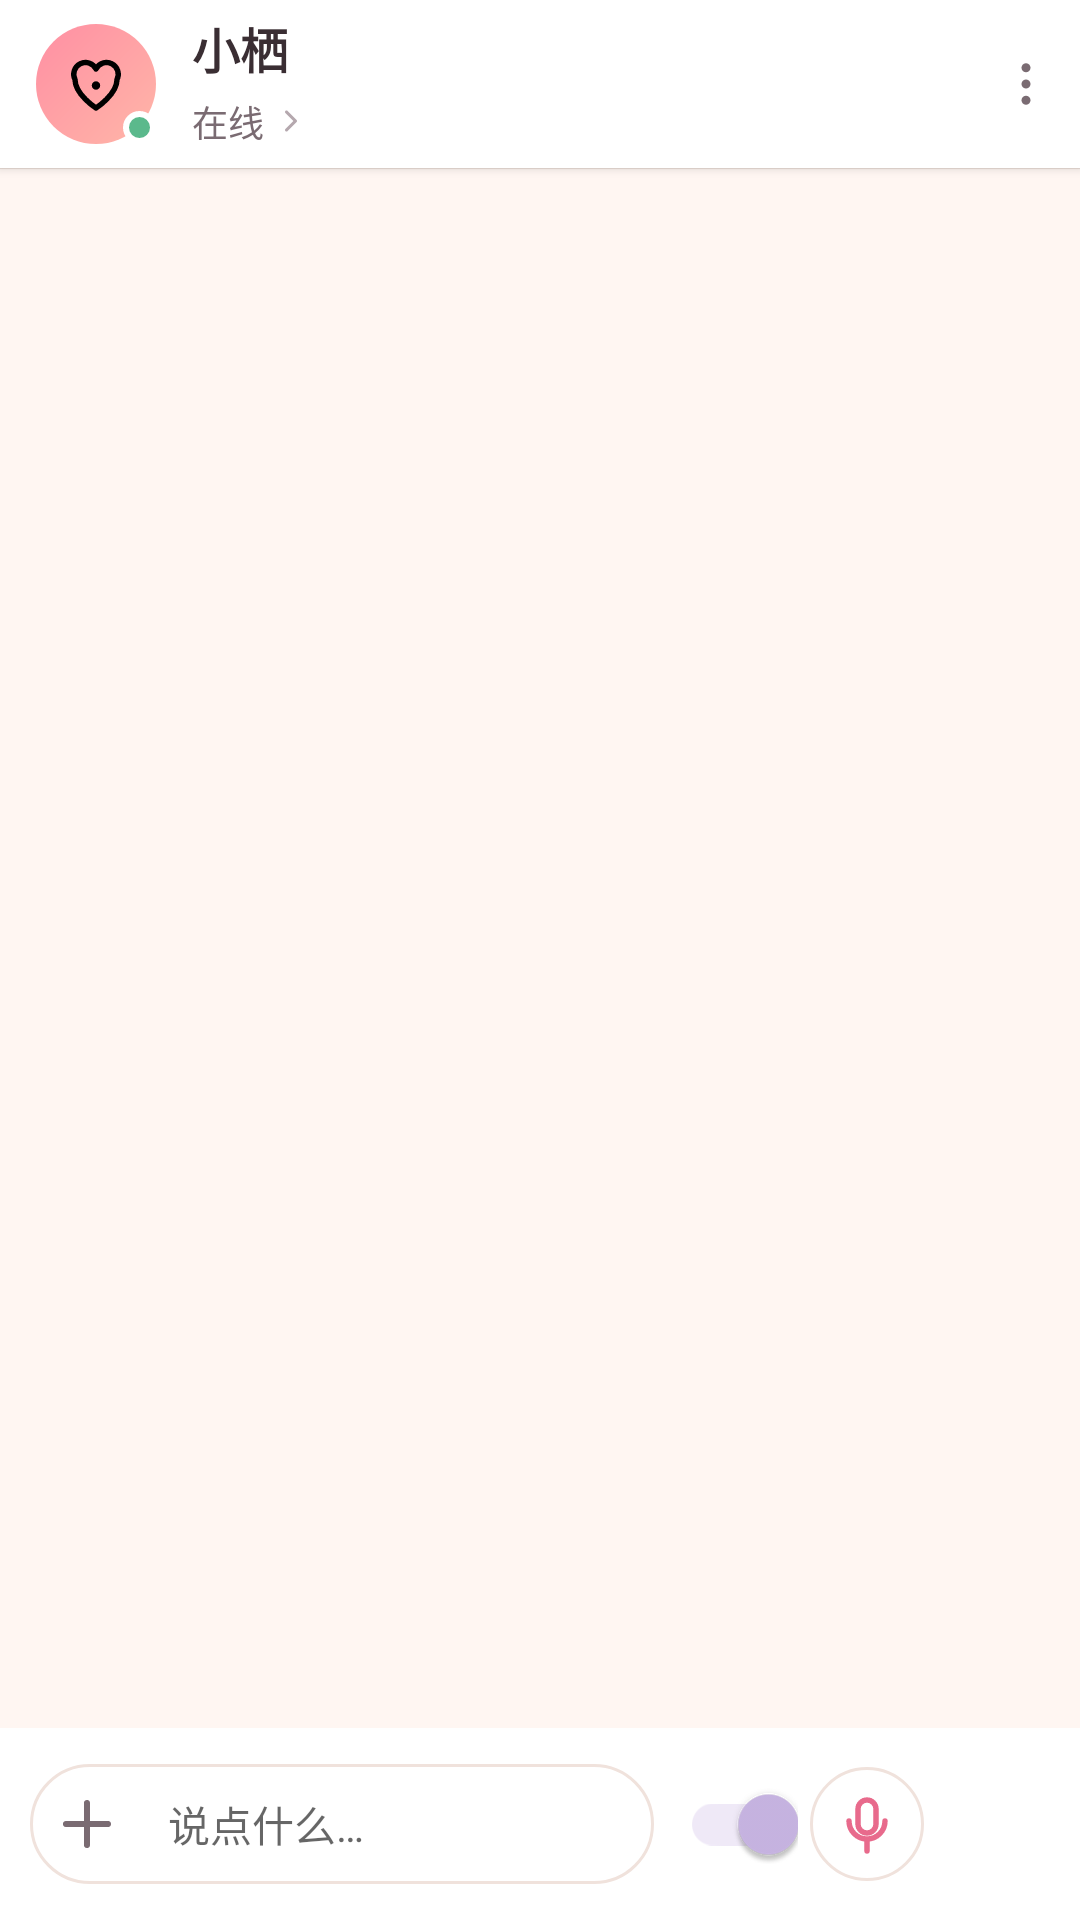

Icon click points for this 1080w x 1920h phone screenshot, format (x,y):
菜单: (1026,84)
语音聊天: (867,1824)
